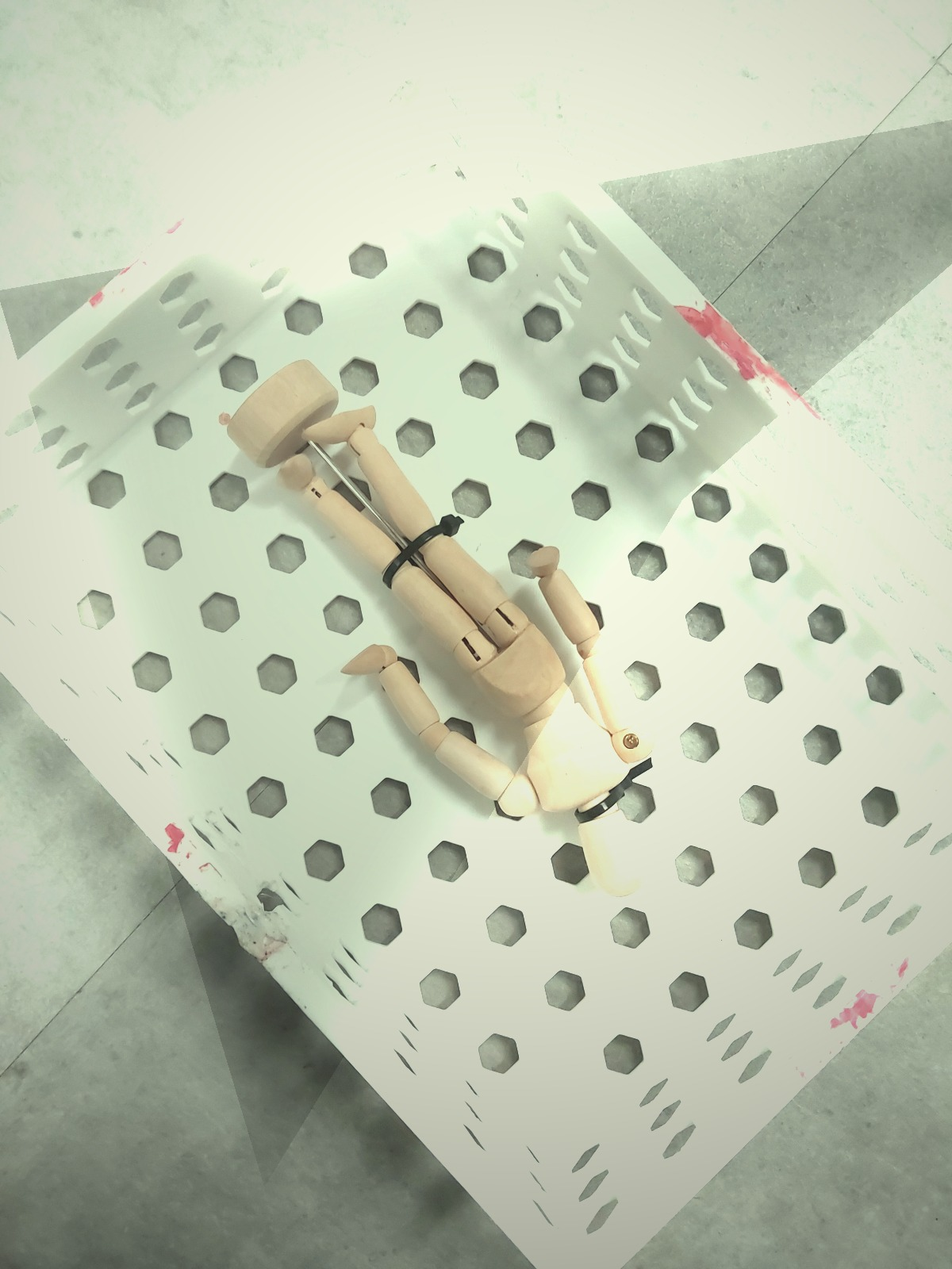mannequin: (222, 352, 652, 910)
